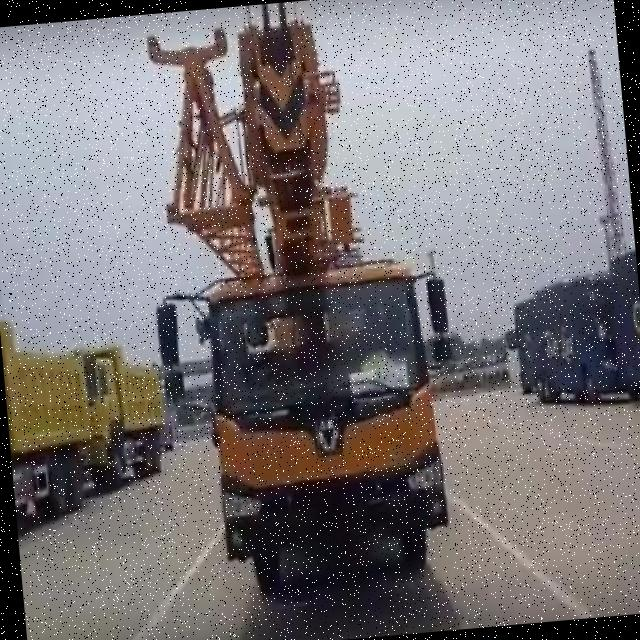Mobile Crane: (132, 2, 460, 606)
